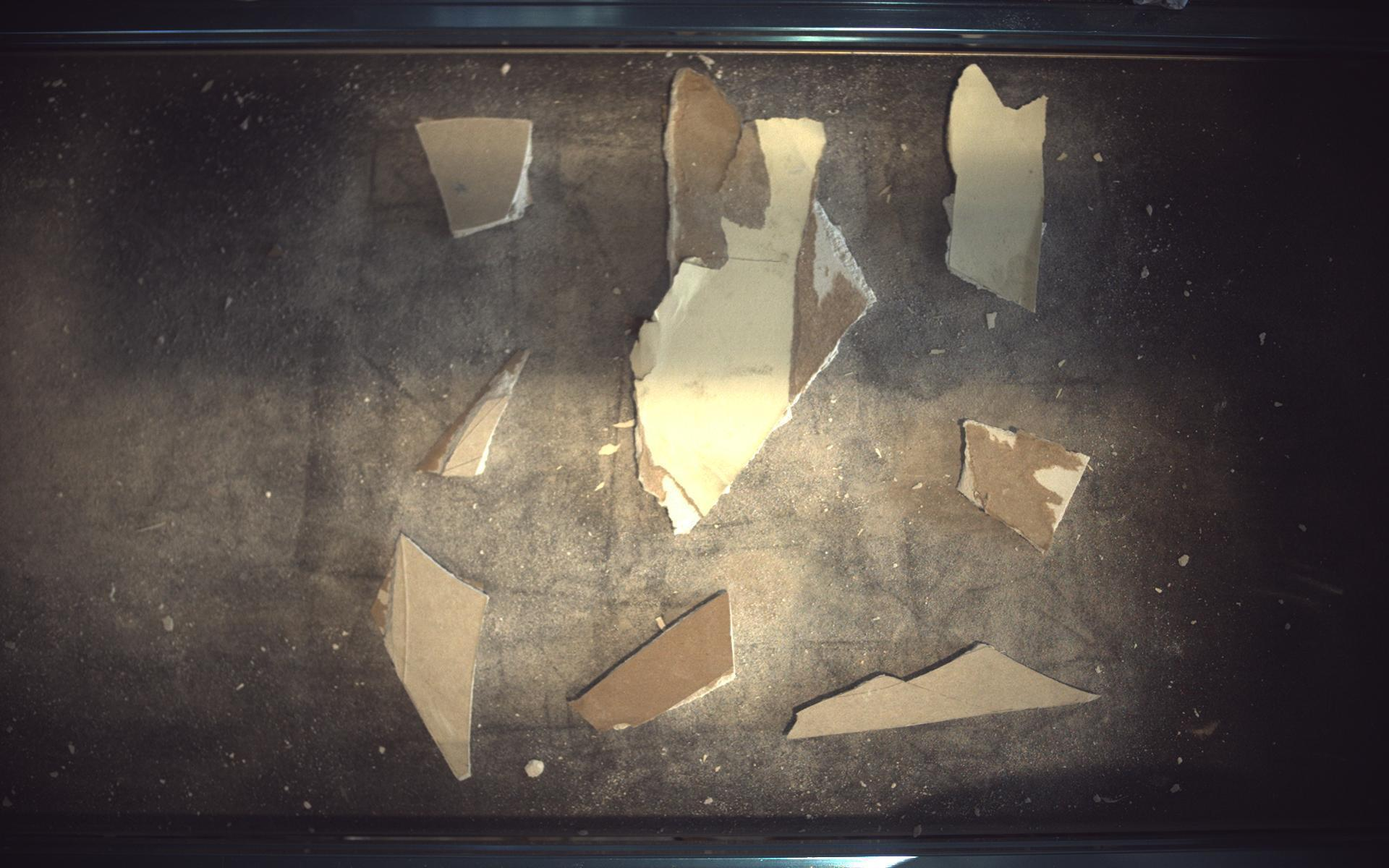gypsum_board: (632, 67, 877, 534), (789, 644, 1101, 741), (371, 535, 489, 781), (948, 62, 1050, 312), (569, 592, 736, 733), (959, 420, 1092, 553), (417, 349, 530, 477), (416, 116, 532, 237)
